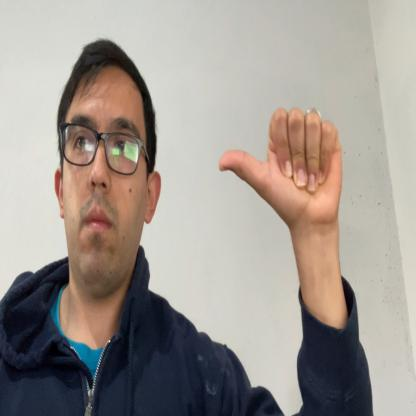A: (218, 109, 345, 227)
